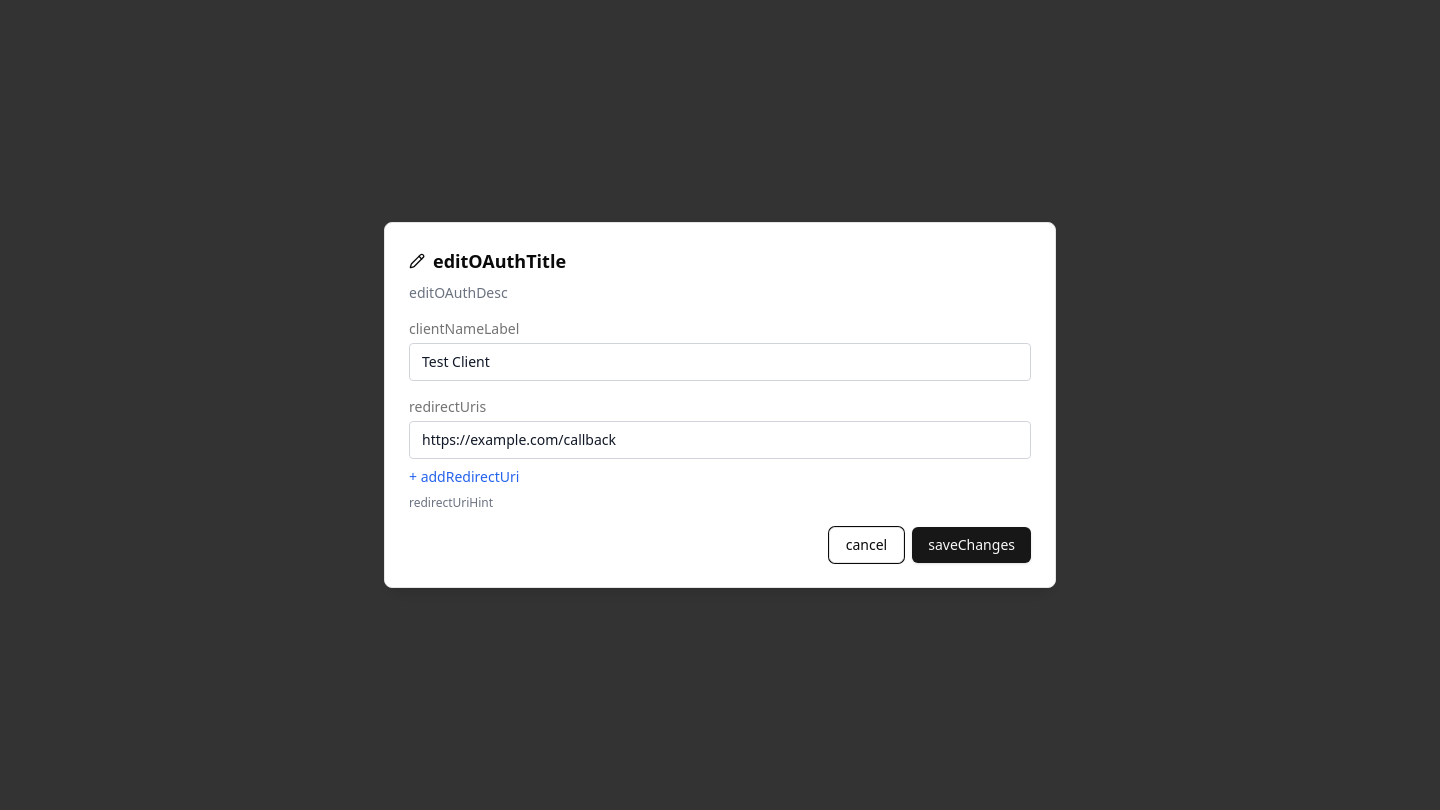
Test: EditOAuthClientDialog › shows validation error when all redirect URIs are empty
The image size is (1440, 810).
Clear the field with placeholder "redirectUriPlaceholder" below "redirectUris": (720, 440) [409,421,1031,459]
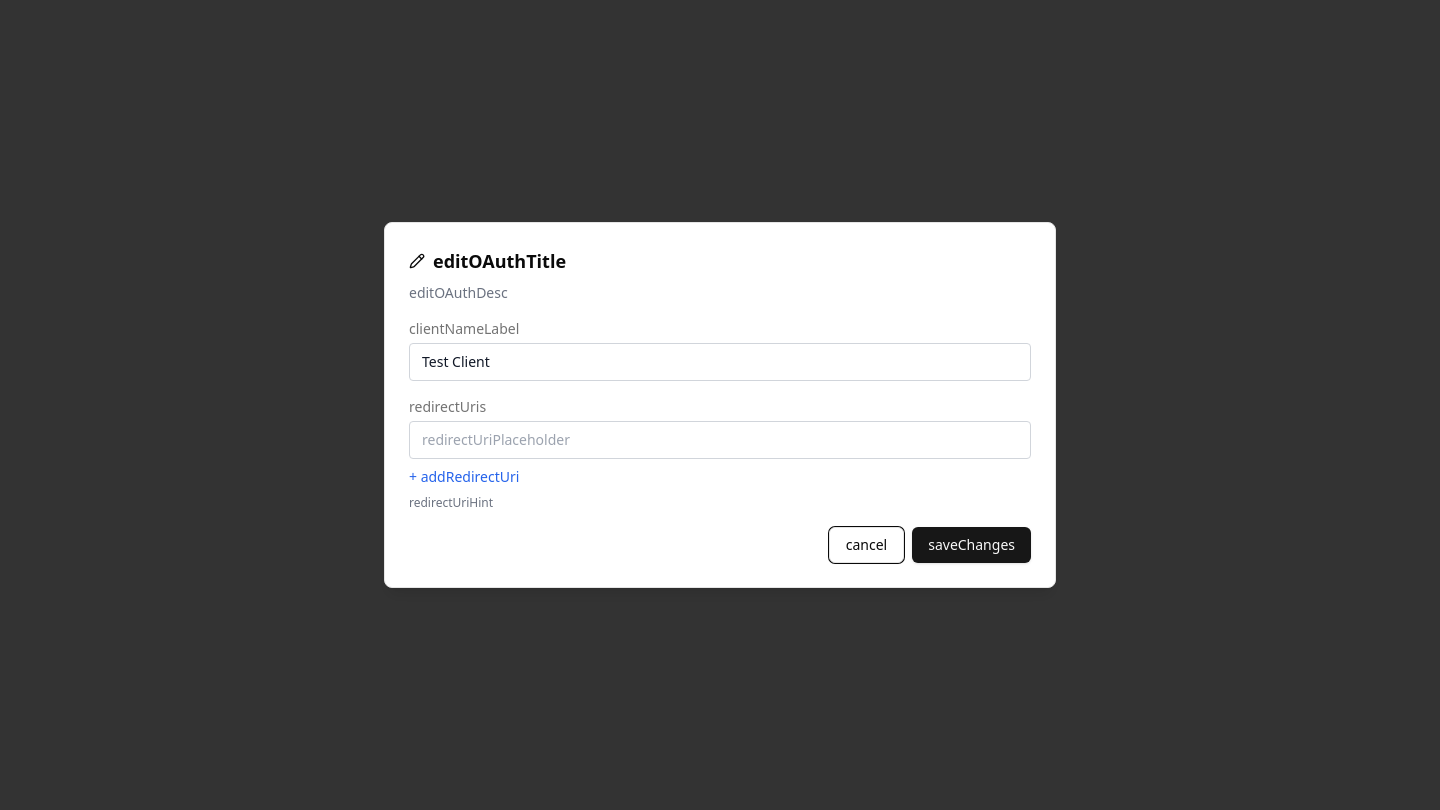
Click the button "saveChanges": (972, 545) [912,527,1031,563]
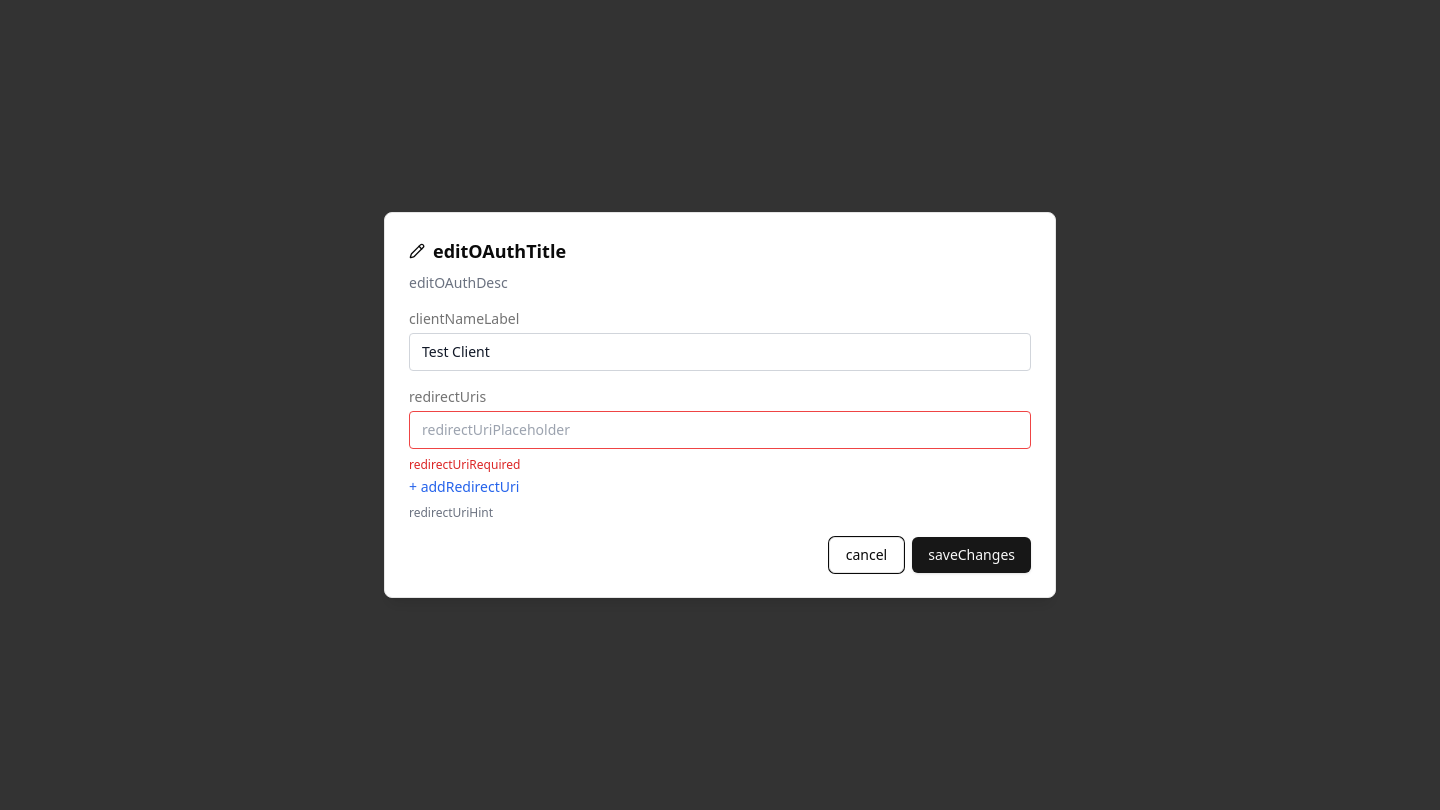
Expected: the text "redirectUriRequired" is shown, [409,456,520,473]
